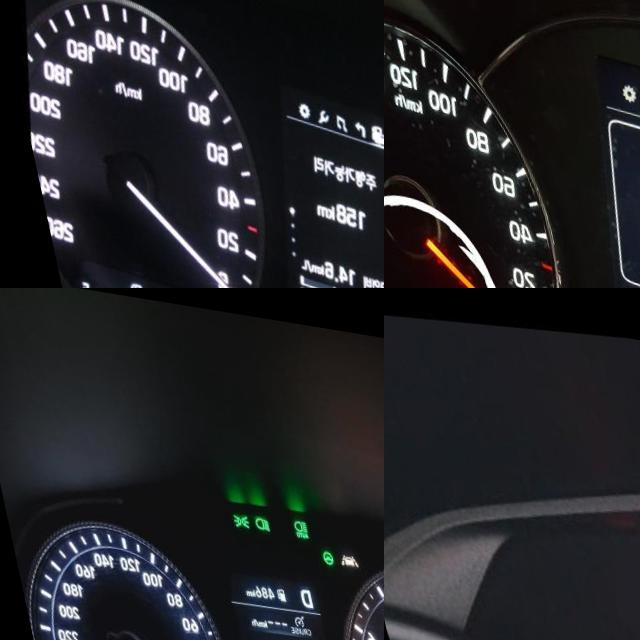LaneCenteringOff: (330, 540, 349, 556)
Low beam: (246, 508, 262, 523)
SideLamp: (223, 504, 242, 521)
